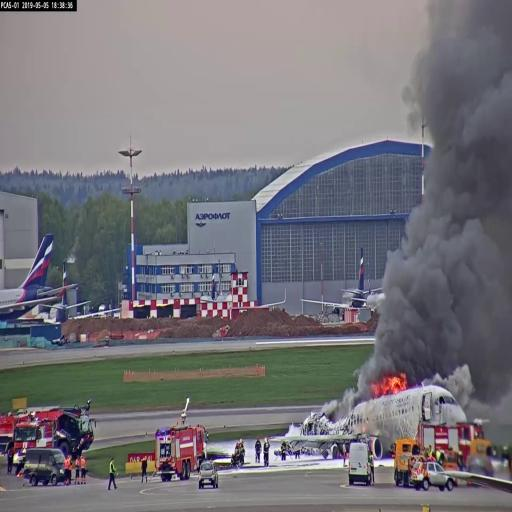fire: (376, 366, 410, 391)
smoke: (426, 2, 512, 372), (388, 203, 512, 373)
